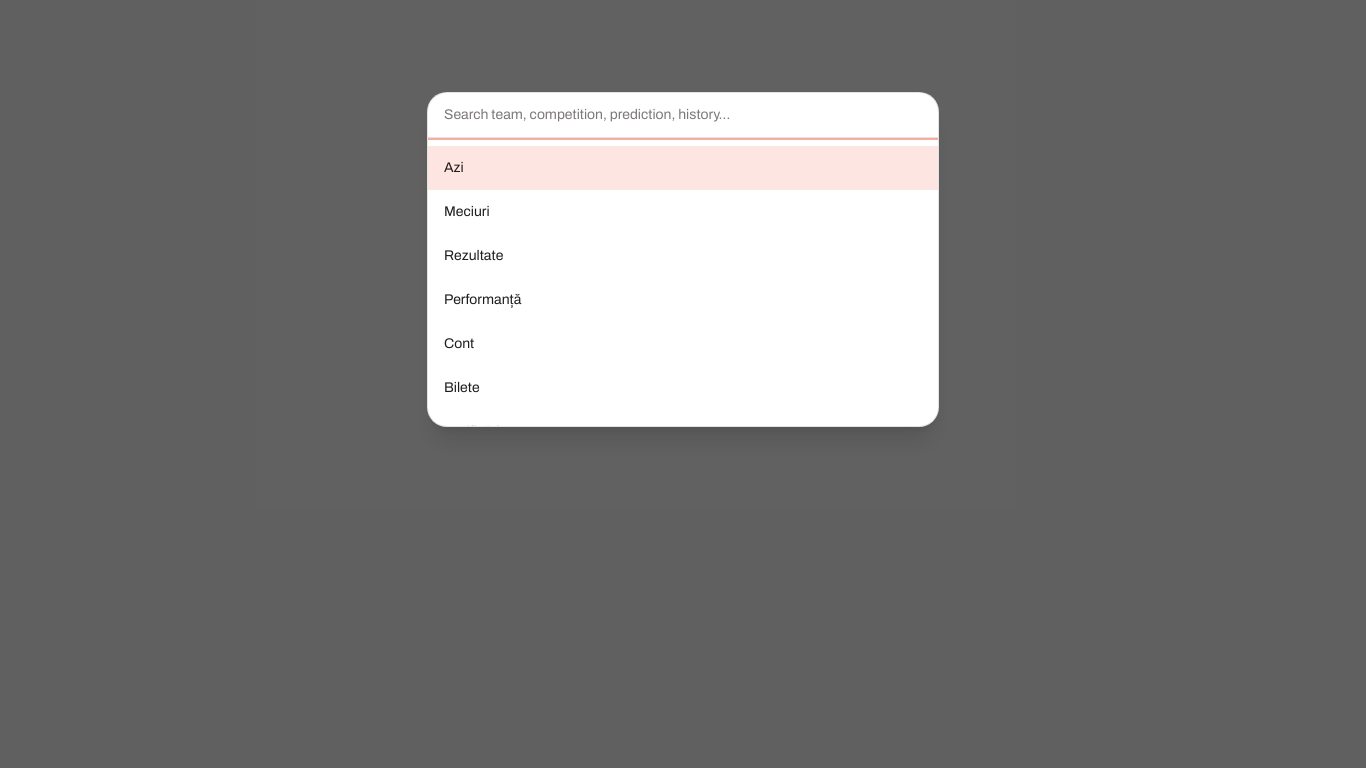
Test case: H — the row reflects the canonical state › stays findable by its own name when blocked
Type "generează" into the field labelled "Search" at (683, 116), box [428,93,938,138]
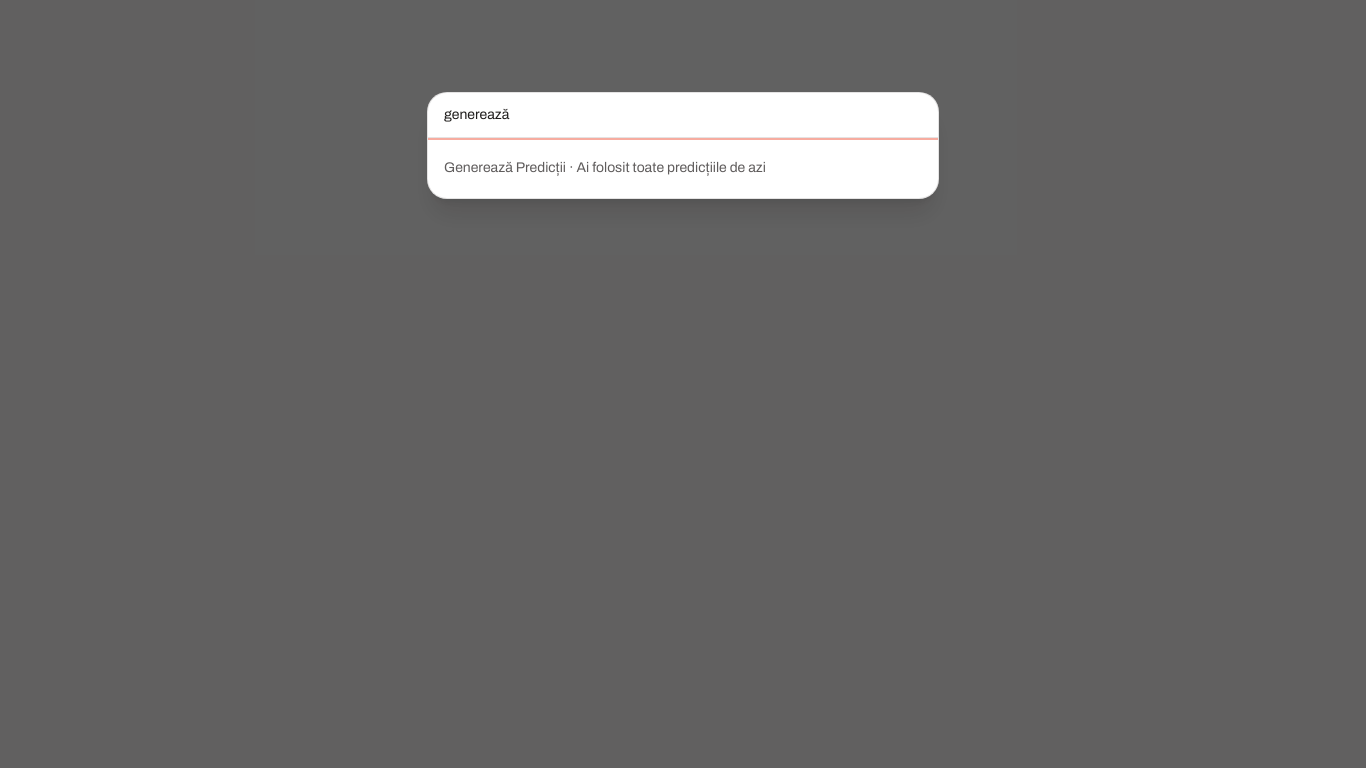
Check: the button is shown, box [428,146,938,190]
